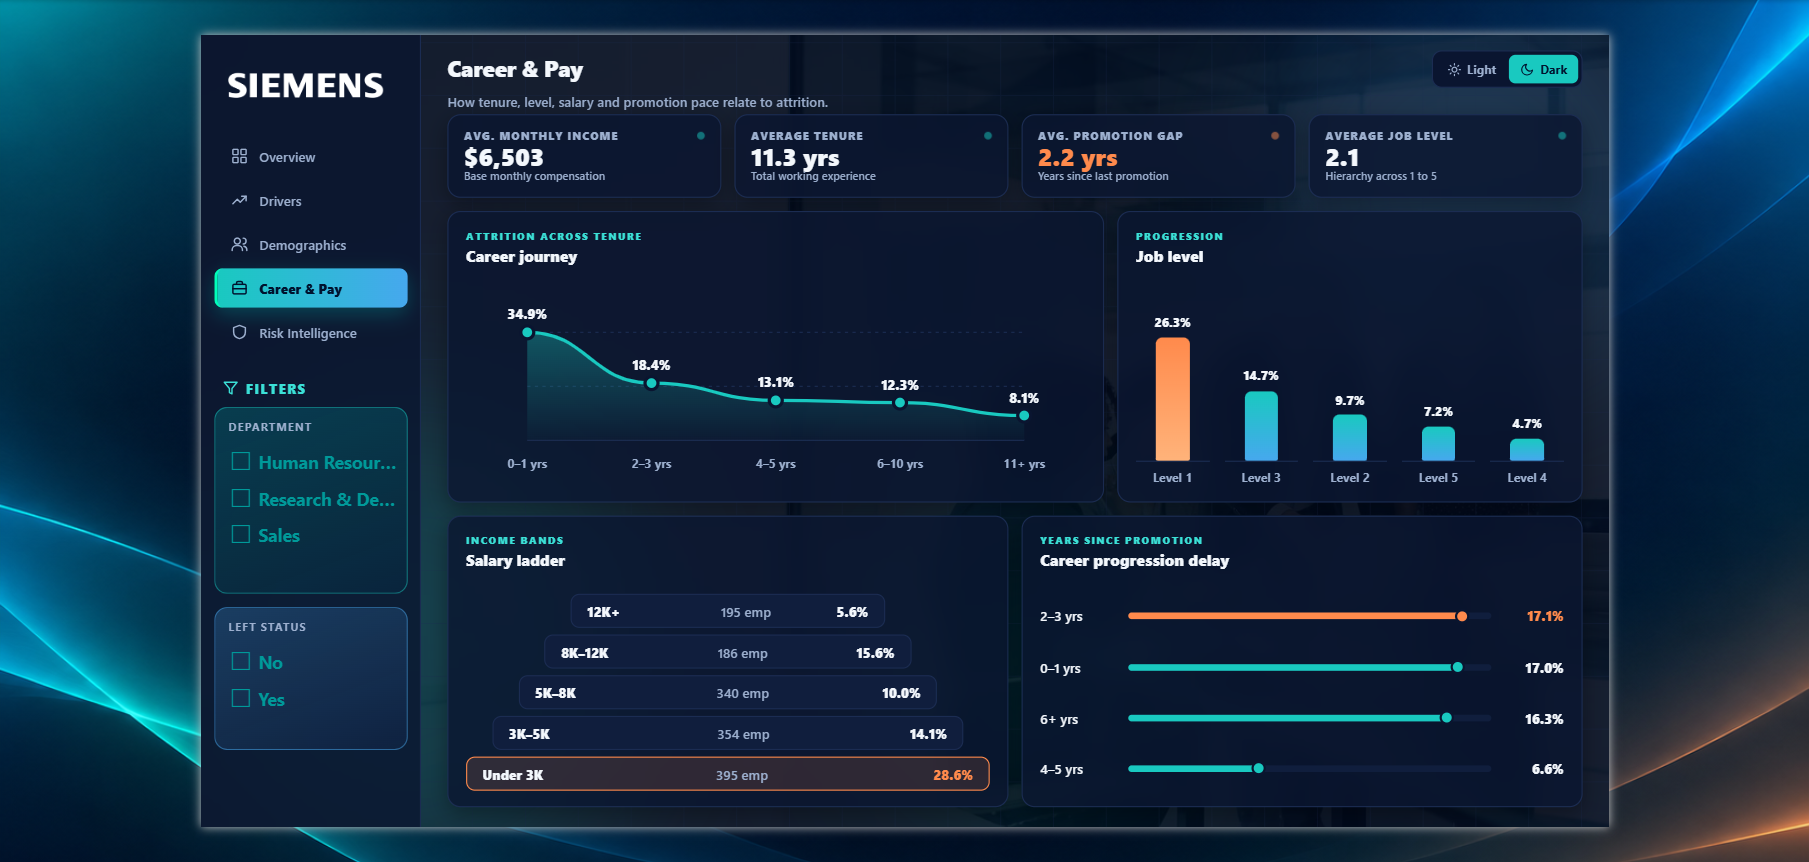

The dashboard page shown, as its layout file describes it:
{"tool":"powerbi","page":{"name":"Career & Pay Page","canvas":[1280,720],"ordinal":4},"visuals":[{"type":"htmlContent443BE3AD55E043BF878BED274D3A6855","fields":{"content":["HTML Visuals.Career_Pay_Page"]},"box":[0,0,1280,720],"z":0},{"type":"actionButton","title":"Risk Intelligence","box":[12,252,176,36],"z":1000},{"type":"actionButton","title":"Demographics","box":[12,172,176,36],"z":2000},{"type":"actionButton","title":"Drivers","box":[12,132,176,36],"z":3000},{"type":"actionButton","title":"Overview","box":[12,92,176,36],"z":4000},{"type":"slicer","title":"Left Status Slicer","fields":{"Values":["fact_attrition.attrition"]},"box":[20,554,160,84],"z":4001},{"type":"slicer","title":"Department Slicer","fields":{"Values":["dim_department.department"]},"box":[20,372,160,124],"z":4002}]}

Visuals, with their boxes on the page's 1280x720 design canvas (x1, y1, x2, y2). These are canvas units, not pixel positions in the 1809x862 screenshot, which may show the page scaled, cropped or inside an application window:
htmlContent443BE3AD55E043BF878BED274D3A6855 - HTML Visuals.Career_Pay_Page: BBox(0, 0, 1280, 720)
"Risk Intelligence" actionButton: BBox(12, 252, 188, 288)
"Demographics" actionButton: BBox(12, 172, 188, 208)
"Drivers" actionButton: BBox(12, 132, 188, 168)
"Overview" actionButton: BBox(12, 92, 188, 128)
"Left Status Slicer" slicer: BBox(20, 554, 180, 638)
"Department Slicer" slicer: BBox(20, 372, 180, 496)
